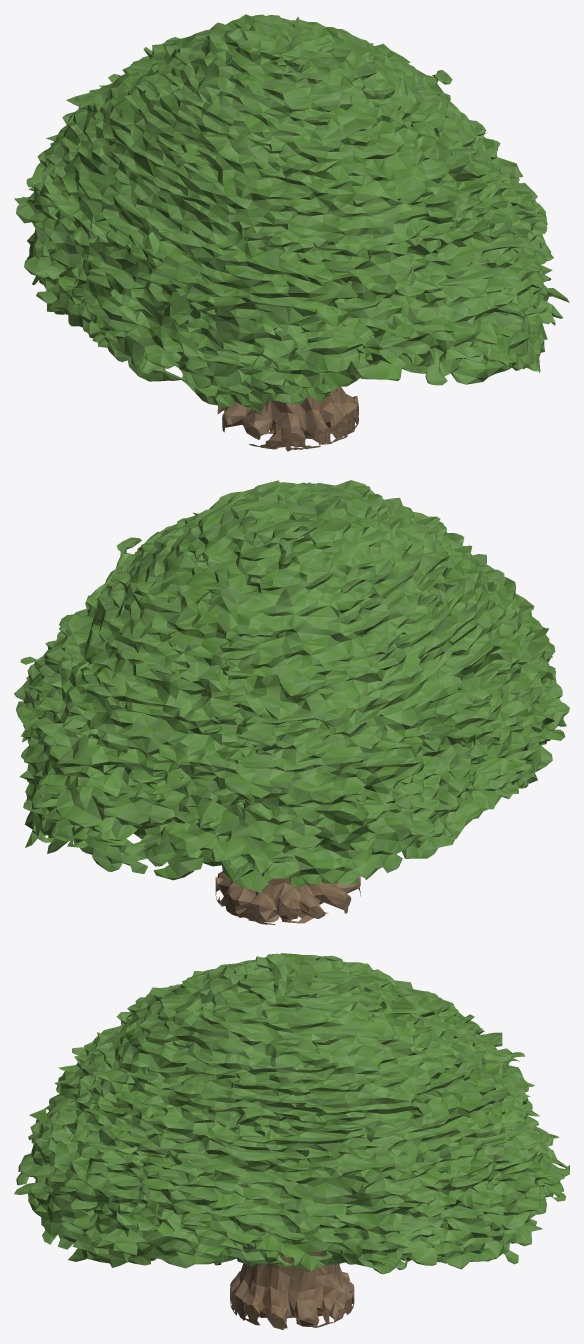
Rendered from sycamore_tree.glb.
The picture shows the model from 3 angles, top to bottom: view 1: azimuth 30°, elevation 25°; view 2: azimuth 150°, elevation 25°; view 3: azimuth 270°, elevation 25°; orthographic projection. The views are drawn at different scales.
Visible parts, largest first — view 1: world; view 2: world; view 3: world.
Part boxes in pixels (x1=…): world: x1=14, y1=14, x2=569, y2=451; world: x1=14, y1=480, x2=569, y2=924; world: x1=14, y1=953, x2=569, y2=1329.
Size of the model in its own units: 5.53 by 4.8 by 7.16.
